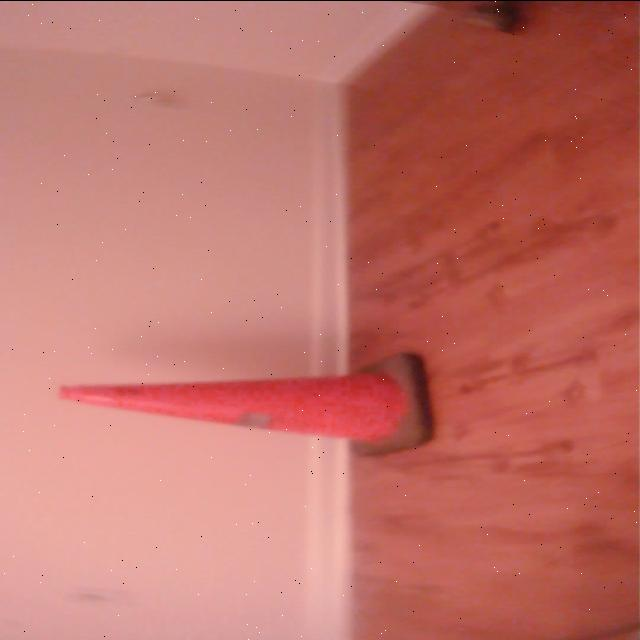traffic cone: (51, 346, 437, 462)
